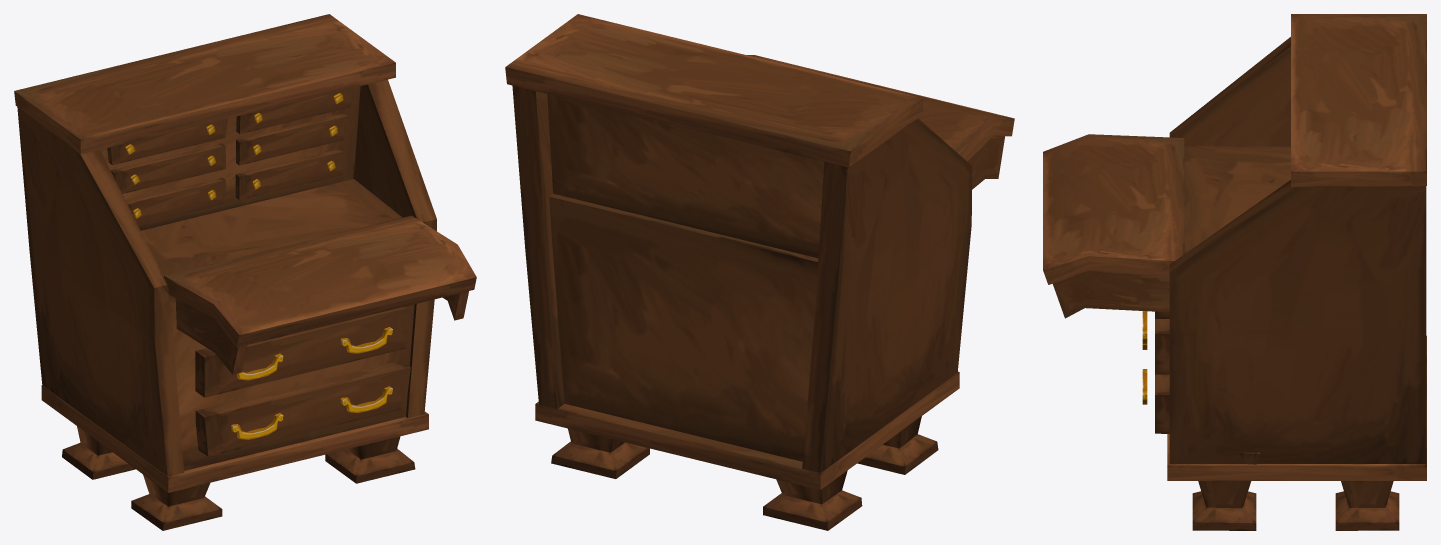
File: e_asset_desk.fbx
3 views of the same model, side by side, from view 1: azimuth 30°, elevation 25°; view 2: azimuth 150°, elevation 25°; view 3: azimuth 270°, elevation 25° (orthographic). The views are drawn at different scales.
Parts seen in each view (by area): view 1: polySurface940; view 2: polySurface940; view 3: polySurface940.
Part boxes in pixels (x1,y1,x2,y2): polySurface940: [14, 14, 476, 530]; polySurface940: [505, 14, 1014, 530]; polySurface940: [1043, 14, 1426, 530].
Size of the model in its own units: 0.6297 by 0.6956 by 0.6482.
